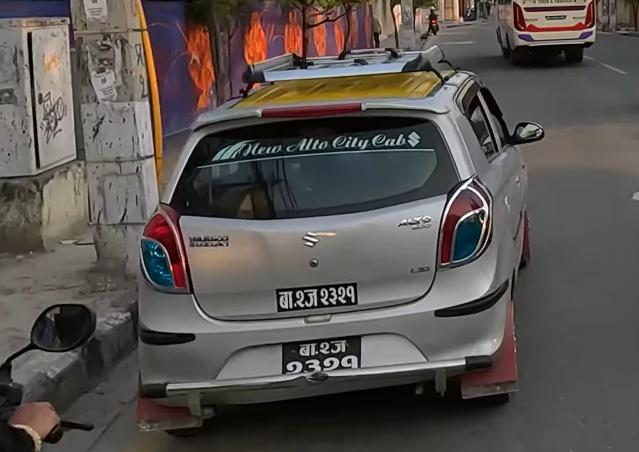bike: (427, 8, 441, 33)
bus: (488, 0, 602, 67)
taxi: (129, 56, 546, 441)
